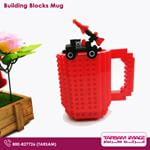cups: (53, 47, 137, 127)
